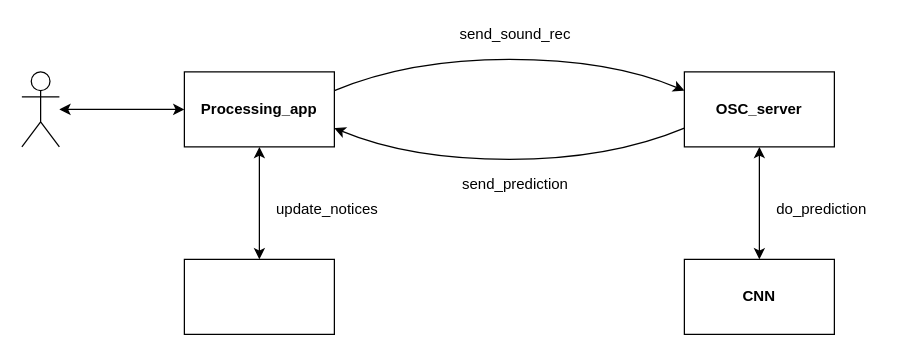
The diagram is 906 pixels wide and 356 high, and some of its shapes have lost their labels. Each missing label, with the centre of its shape:
notices_crawler: the point at 258,296
User: the point at 40,109
